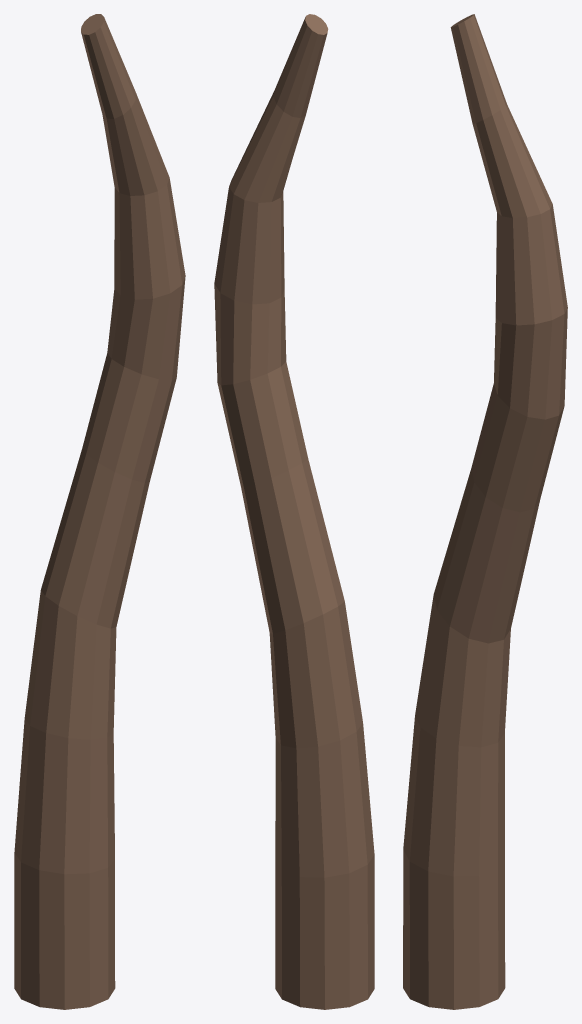
The model's file is Stick 1.1.fbx.
3 renders of one model, left to right at view 1: azimuth 30°, elevation 25°; view 2: azimuth 150°, elevation 25°; view 3: azimuth 330°, elevation 25°, orthographic. The views are drawn at different scales.
Visible parts, largest first — view 1: Stick A1; view 2: Stick A1; view 3: Stick A1.
Part boxes in pixels (x1=…): Stick A1: x1=14, y1=14, x2=185, y2=1009; Stick A1: x1=214, y1=14, x2=374, y2=1009; Stick A1: x1=403, y1=14, x2=567, y2=1009.
Bounding box in the file's own units: 356 × 2133 × 200.
